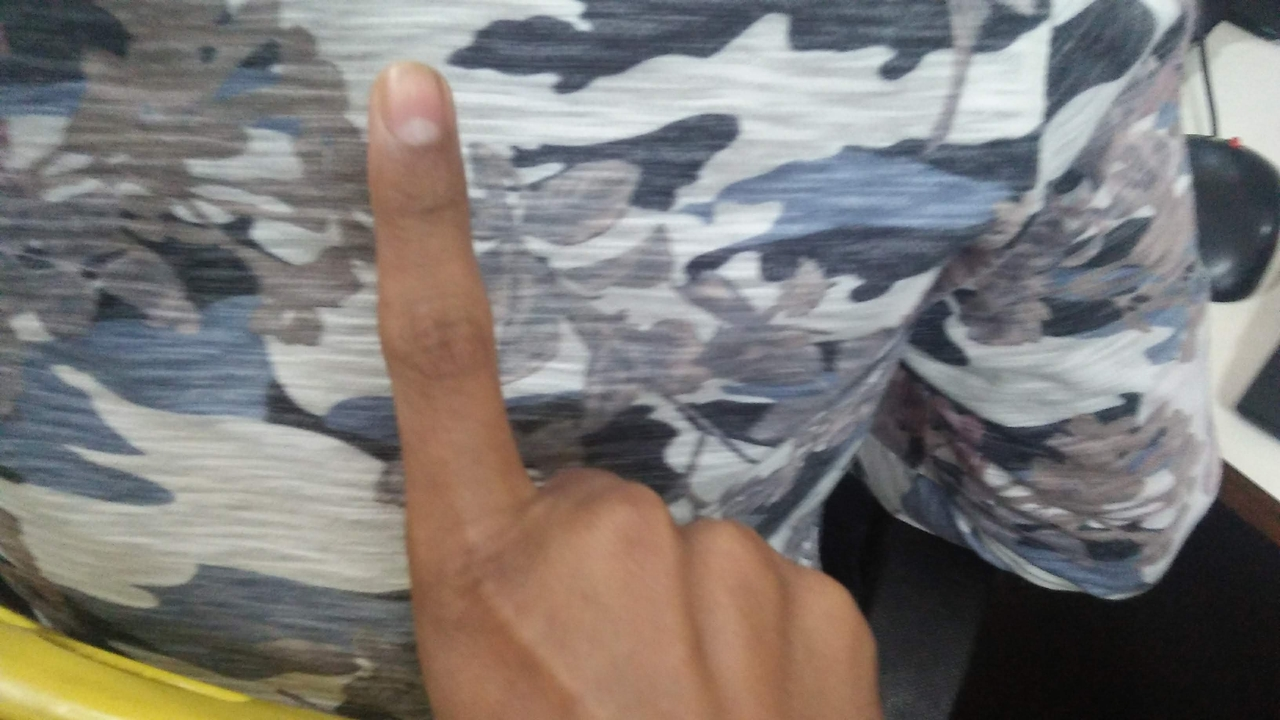fingertip: (362, 52, 454, 132)
